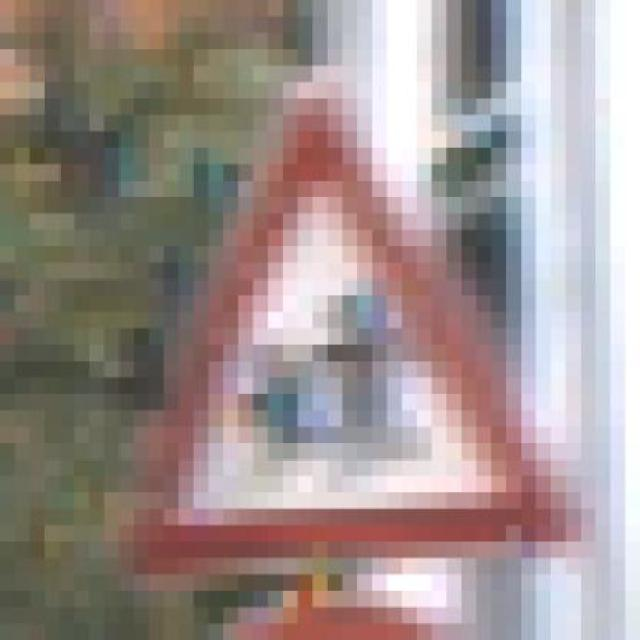Beware of children: (89, 82, 580, 575)
